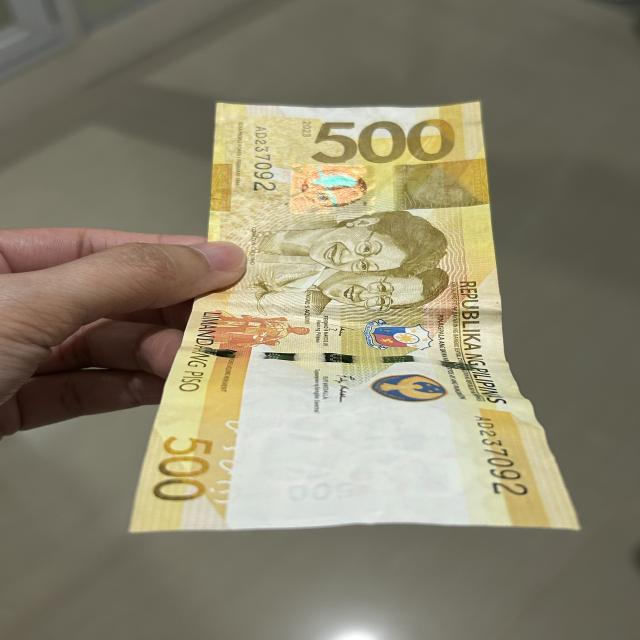concealed_value: (402, 164, 480, 207)
optically_variable_device: (300, 170, 370, 210)
security_thread: (202, 340, 486, 374)
see_through_mark: (218, 415, 253, 512)
serial_number: (472, 408, 537, 505)
value_watermark: (284, 476, 358, 503)
